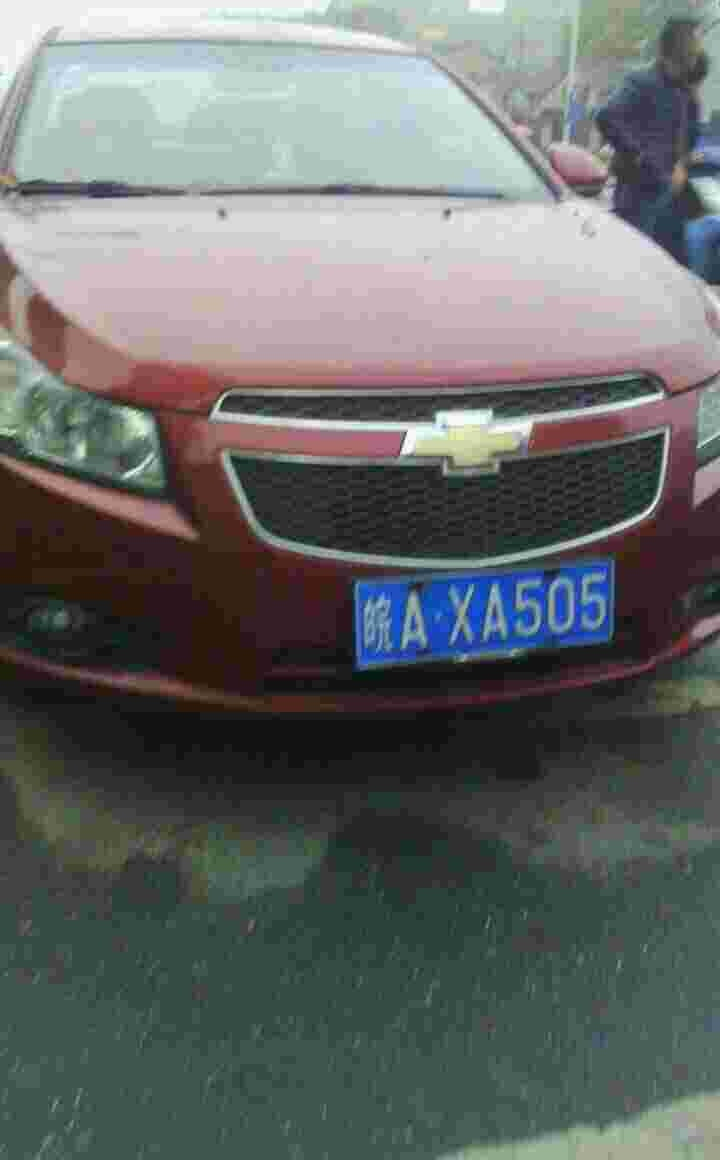license_plate: (346, 566, 624, 674)
